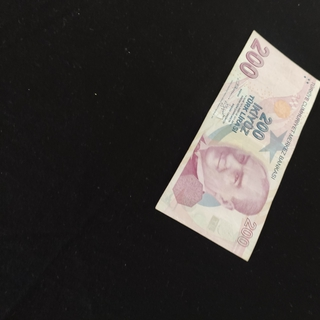200TLFront: (154, 29, 320, 261)
